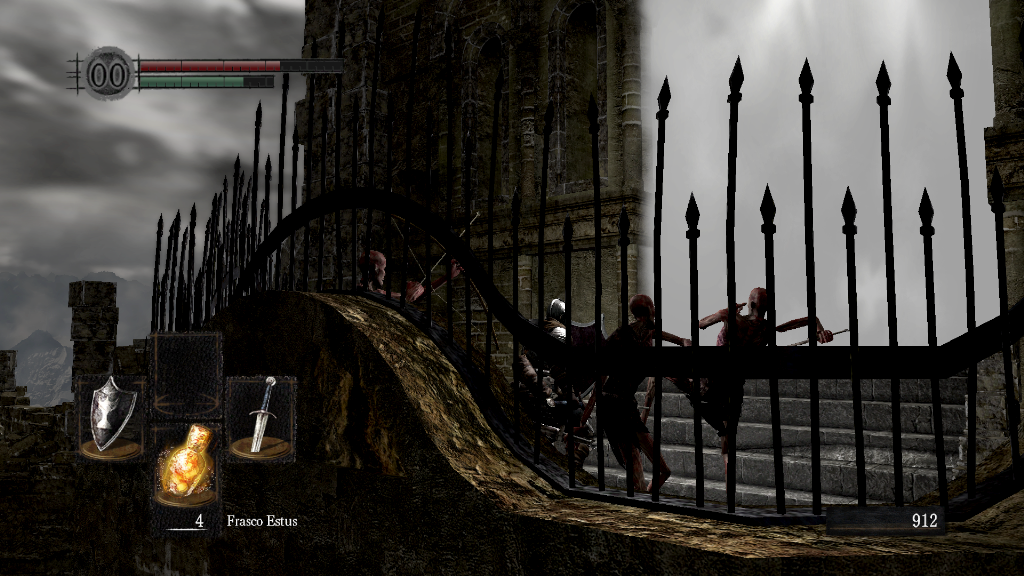health: (138, 58, 343, 71)
hollow: (640, 289, 852, 524), (349, 191, 497, 349), (606, 297, 689, 509)
humanity: (80, 45, 136, 102)
player: (512, 297, 608, 483)
souls: (825, 506, 945, 536)
stamina: (138, 74, 274, 88)
